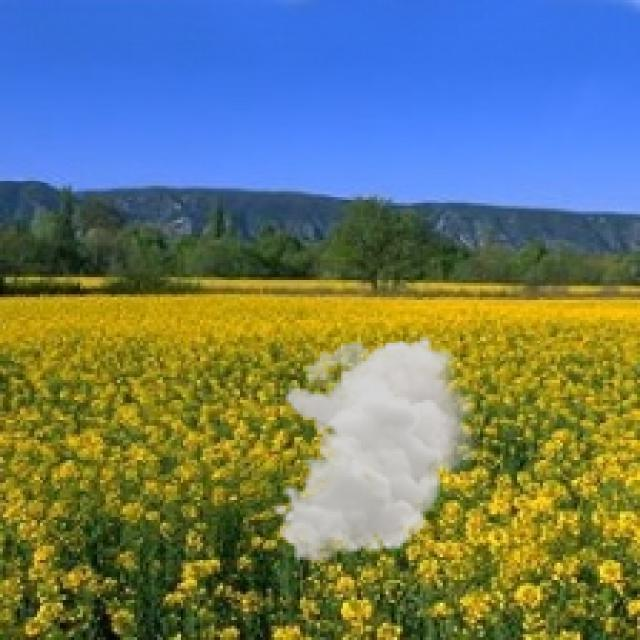Smoke: (271, 334, 483, 563)
